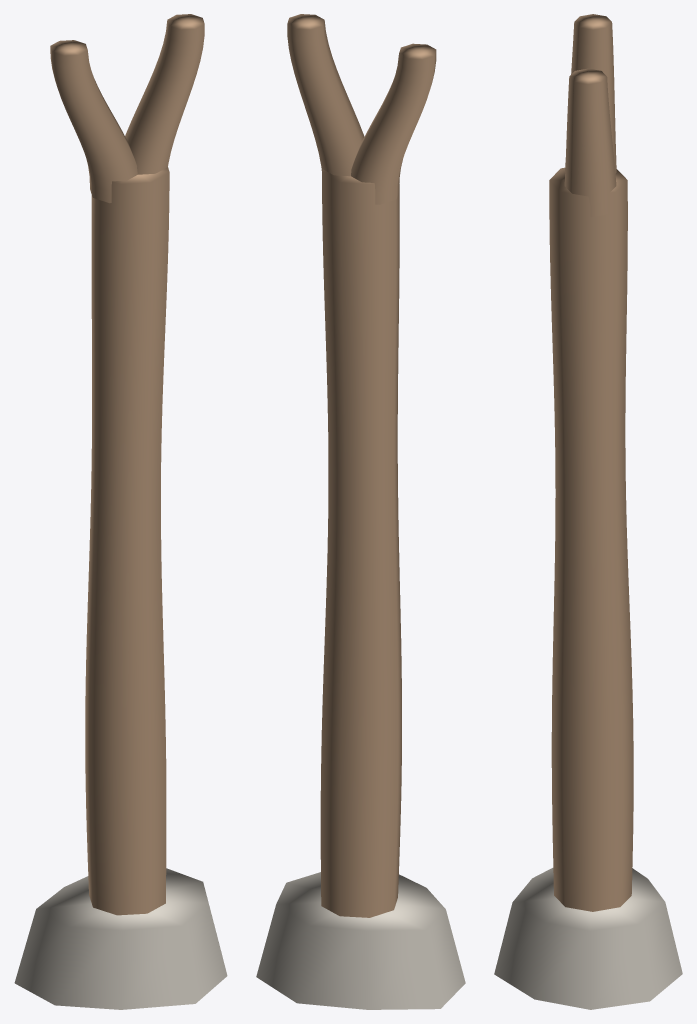
The model's file is bagana-f3-3x13x3-v2.glb.
The picture shows the model from 3 angles, left to right: view 1: azimuth 30°, elevation 25°; view 2: azimuth 150°, elevation 25°; view 3: azimuth 270°, elevation 25°; orthographic projection. The views are drawn at different scales.
Parts seen in each view (by area): view 1: bagana_wood, bagana_stone; view 2: bagana_wood, bagana_stone; view 3: bagana_wood, bagana_stone.
Part boxes in pixels (x1,y1,x2,y2): bagana_wood: (50, 14, 204, 915); bagana_stone: (14, 868, 227, 1009); bagana_wood: (287, 14, 436, 917); bagana_stone: (256, 872, 465, 1009); bagana_wood: (549, 14, 633, 911); bagana_stone: (494, 868, 682, 1009).
Size of the model in its own units: 0.6865 by 3.25 by 0.6067.
